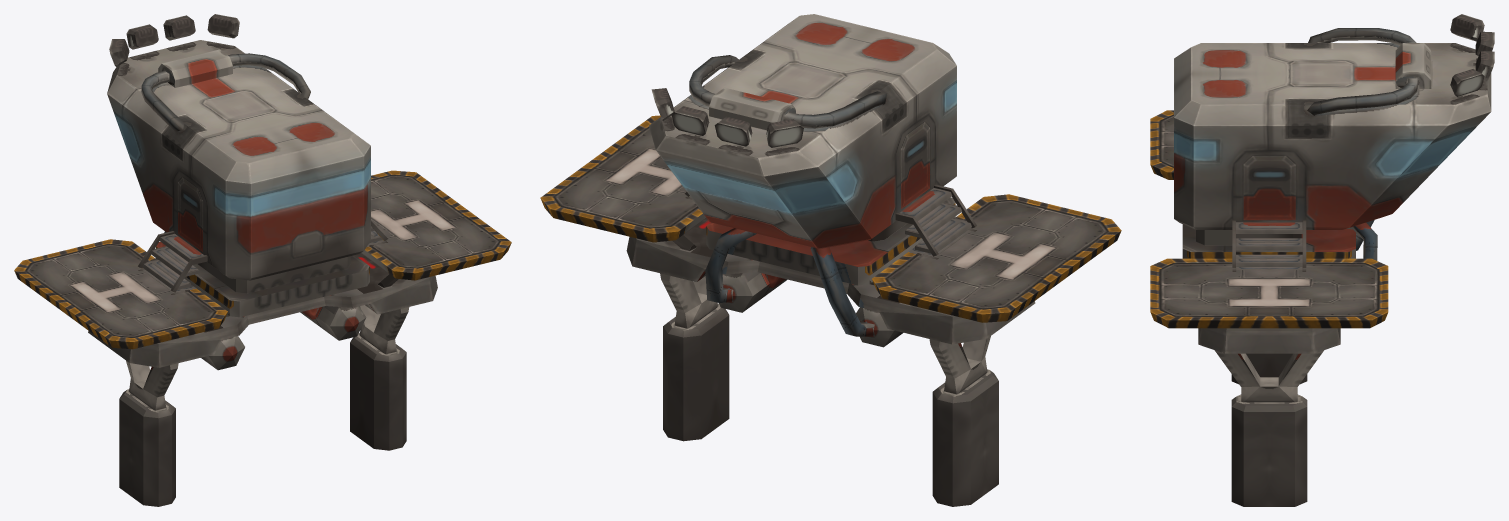
File: crystal_station_low.fbx
The picture shows the model from 3 angles, left to right: view 1: azimuth 30°, elevation 25°; view 2: azimuth 150°, elevation 25°; view 3: azimuth 270°, elevation 25°; orthographic projection. The views are drawn at different scales.
Parts seen in each view (by area): view 1: low; view 2: low; view 3: low.
Boxes of the visible parts, x1=… form: low: x1=14, y1=14, x2=511, y2=506; low: x1=540, y1=14, x2=1121, y2=506; low: x1=1150, y1=14, x2=1494, y2=506.
Bounding box in the file's own units: 1822 × 1262 × 1586.
